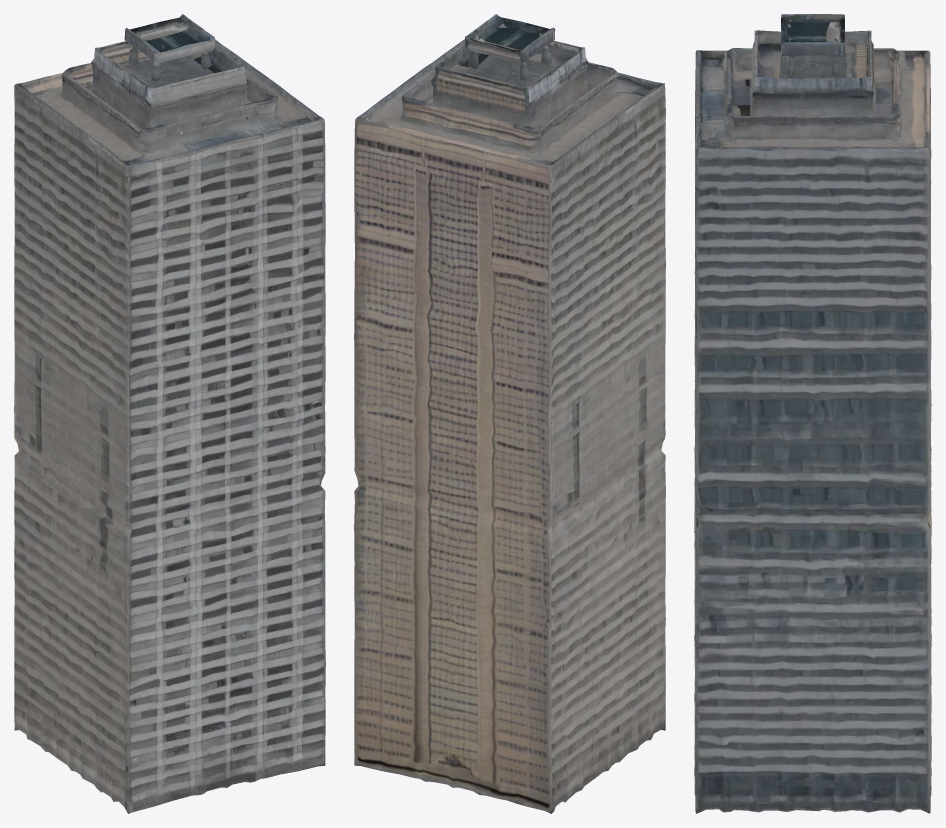
The model's file is tenement-4.glb.
3 renders of one model, left to right at view 1: azimuth 30°, elevation 25°; view 2: azimuth 150°, elevation 25°; view 3: azimuth 270°, elevation 25°, orthographic. The views are drawn at different scales.
Visible parts, largest first — view 1: Building; view 2: Building; view 3: Building.
Part boxes in pixels (<box>): Building: <box>14,14,325,813</box>; Building: <box>354,14,665,813</box>; Building: <box>694,14,931,813</box>.
Bounding box in the file's own units: 0.5831 × 1.99 × 0.5831.
Materials: 1 (1 with a texture image).
